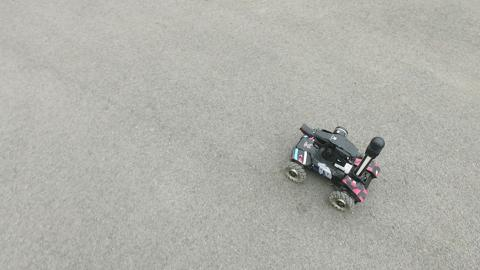chariot: (282, 122, 386, 213)
